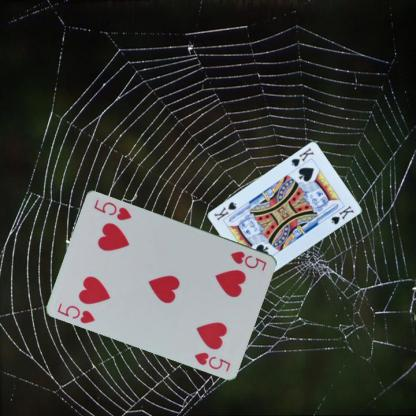5h: (55, 300, 96, 325), (228, 249, 268, 272)
Ks: (288, 145, 315, 168)
